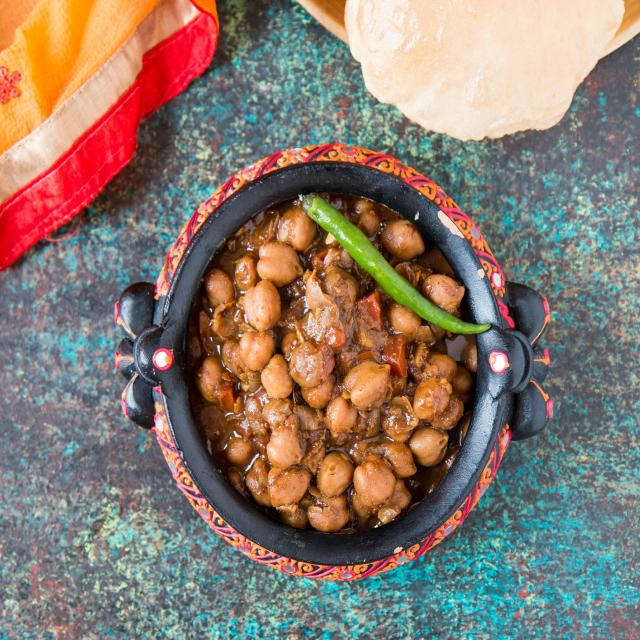Bhatura: (346, 0, 624, 142)
Chole: (177, 191, 478, 541)
